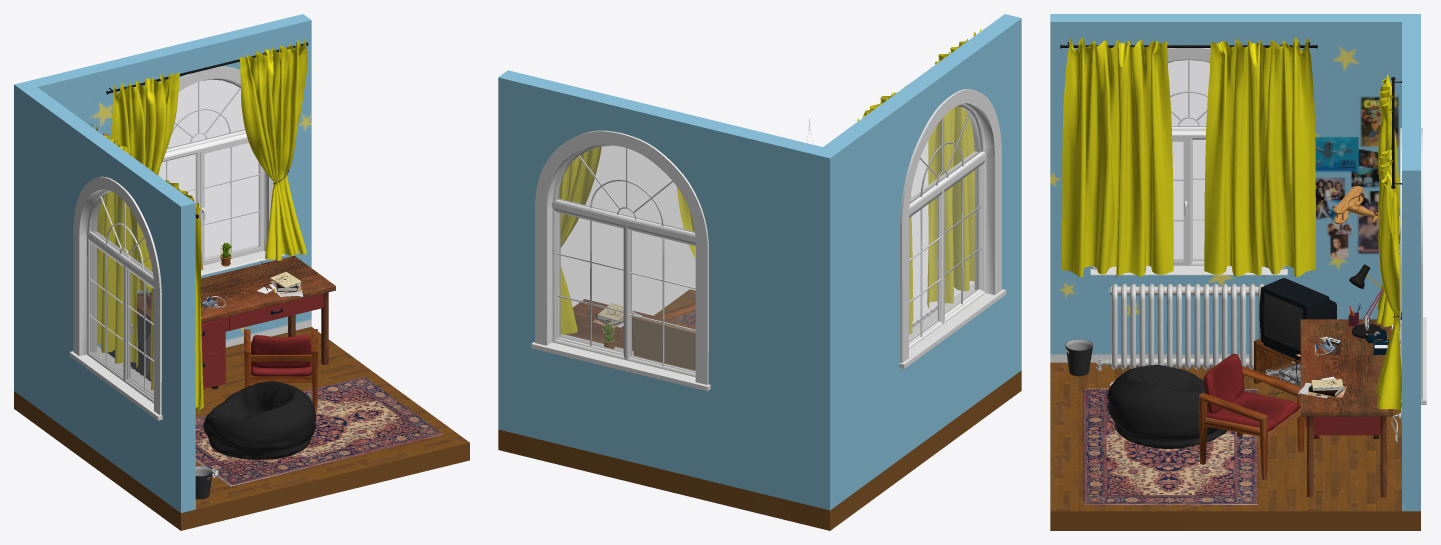
Rendered from room.glb.
3 views of the same model, side by side, from view 1: azimuth 30°, elevation 25°; view 2: azimuth 150°, elevation 25°; view 3: azimuth 270°, elevation 25° (orthographic). The views are drawn at different scales.
Visible parts, largest first — view 1: Wall002_low, floor, Curtain01_low, Wall001_low, Window2, Glass.001, Carpet_low, Glass.002, Desk4_low, Beanbag, Curtain02_low, Window1 (+5 smaller); view 2: Wall001_low, Wall002_low, Glass.001, Window1, Window2, floor, Glass.002, Curtain02_low, Curtain01_low, Board_low, Desk4_low; view 3: Curtain02_low, Wall002_low, floor, Carpet_low, Wall001_low, Radiator_low, Beanbag, Desk4_low, Chair, Curtain01_low, Glass.002, Window2 (+8 smaller).
Boxes of the visible parts, x1=… form: Wall002_low: x1=14, y1=84, x2=195, y2=512; floor: x1=14, y1=327, x2=469, y2=530; Curtain01_low: x1=111, y1=39, x2=307, y2=292; Wall001_low: x1=14, y1=14, x2=311, y2=347; Window2: x1=69, y1=176, x2=162, y2=420; Glass.001: x1=145, y1=80, x2=259, y2=260; Carpet_low: x1=195, y1=376, x2=442, y2=486; Glass.002: x1=91, y1=192, x2=153, y2=396; Desk4_low: x1=137, y1=255, x2=335, y2=383; Beanbag: x1=203, y1=381, x2=316, y2=459; Curtain02_low: x1=91, y1=124, x2=203, y2=414; Window1: x1=137, y1=66, x2=284, y2=290; Wall001_low: x1=498, y1=70, x2=829, y2=510; Wall002_low: x1=823, y1=14, x2=1021, y2=510; Glass.001: x1=558, y1=146, x2=695, y2=371; Window1: x1=531, y1=130, x2=710, y2=391; Window2: x1=899, y1=89, x2=1006, y2=368; floor: x1=498, y1=289, x2=1021, y2=530; Glass.002: x1=909, y1=106, x2=981, y2=342; Curtain02_low: x1=857, y1=29, x2=981, y2=333; Curtain01_low: x1=558, y1=147, x2=695, y2=334; Board_low: x1=632, y1=316, x2=695, y2=370; Desk4_low: x1=565, y1=299, x2=695, y2=350; Curtain02_low: x1=1062, y1=37, x2=1315, y2=276; Wall002_low: x1=1050, y1=14, x2=1420, y2=362; floor: x1=1050, y1=362, x2=1420, y2=530; Carpet_low: x1=1082, y1=388, x2=1258, y2=505; Wall001_low: x1=1402, y1=14, x2=1420, y2=511; Radiator_low: x1=1110, y1=283, x2=1264, y2=369; Beanbag: x1=1107, y1=365, x2=1227, y2=448; Desk4_low: x1=1300, y1=319, x2=1392, y2=427; Chair: x1=1199, y1=353, x2=1304, y2=480; Curtain01_low: x1=1376, y1=73, x2=1401, y2=410; Glass.002: x1=1168, y1=60, x2=1209, y2=260; Window2: x1=1090, y1=48, x2=1287, y2=278.
Size of the model in its own units: 2.71 by 2.87 by 2.71.
54 materials, 48 textured.
